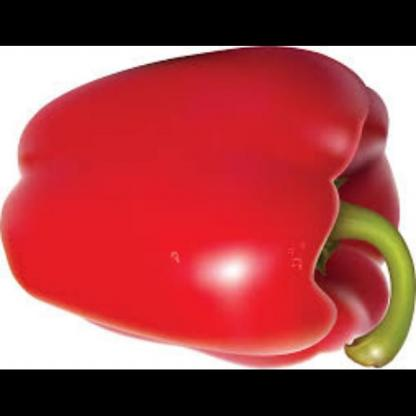bell pepper: (0, 47, 416, 370)
